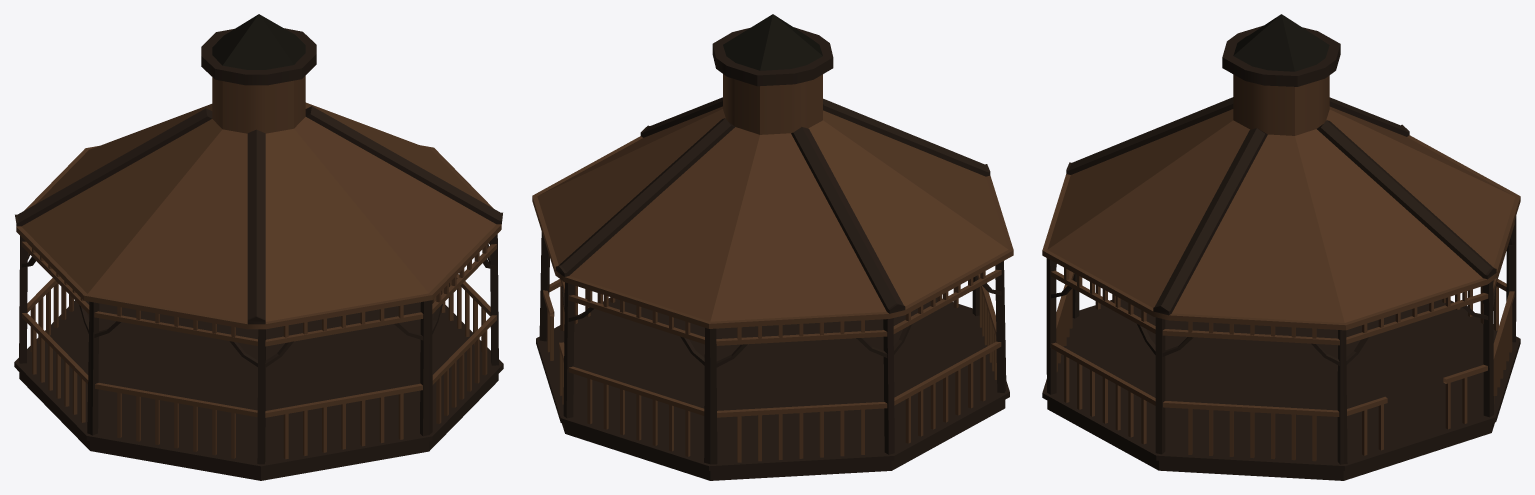
Rendered from gazebo.obj.
The picture shows the model from 3 angles, left to right: view 1: azimuth 30°, elevation 25°; view 2: azimuth 150°, elevation 25°; view 3: azimuth 270°, elevation 25°; orthographic projection.
Parts seen in each view (by area): view 1: node-0_buffer-0-mesh-0.006; view 2: node-0_buffer-0-mesh-0.006; view 3: node-0_buffer-0-mesh-0.006.
Boxes of the visible parts, bbox=[...] form: node-0_buffer-0-mesh-0.006: bbox=[14, 14, 503, 480]; node-0_buffer-0-mesh-0.006: bbox=[532, 14, 1013, 480]; node-0_buffer-0-mesh-0.006: bbox=[1042, 14, 1520, 480].
Size of the model in its own units: 10.4 by 8.77 by 10.31.
